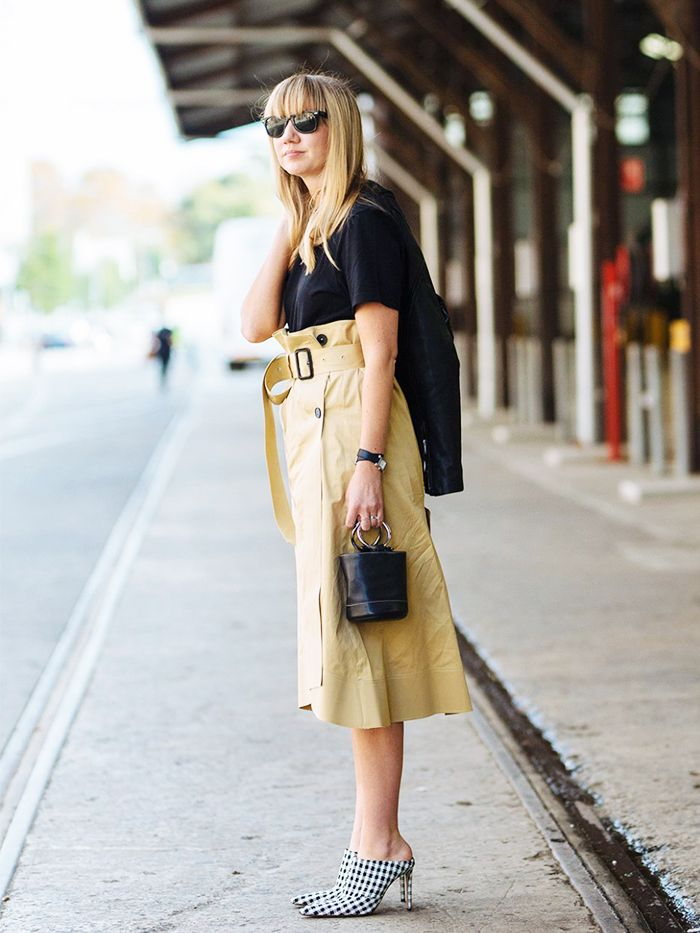Person: (235, 57, 480, 926)
